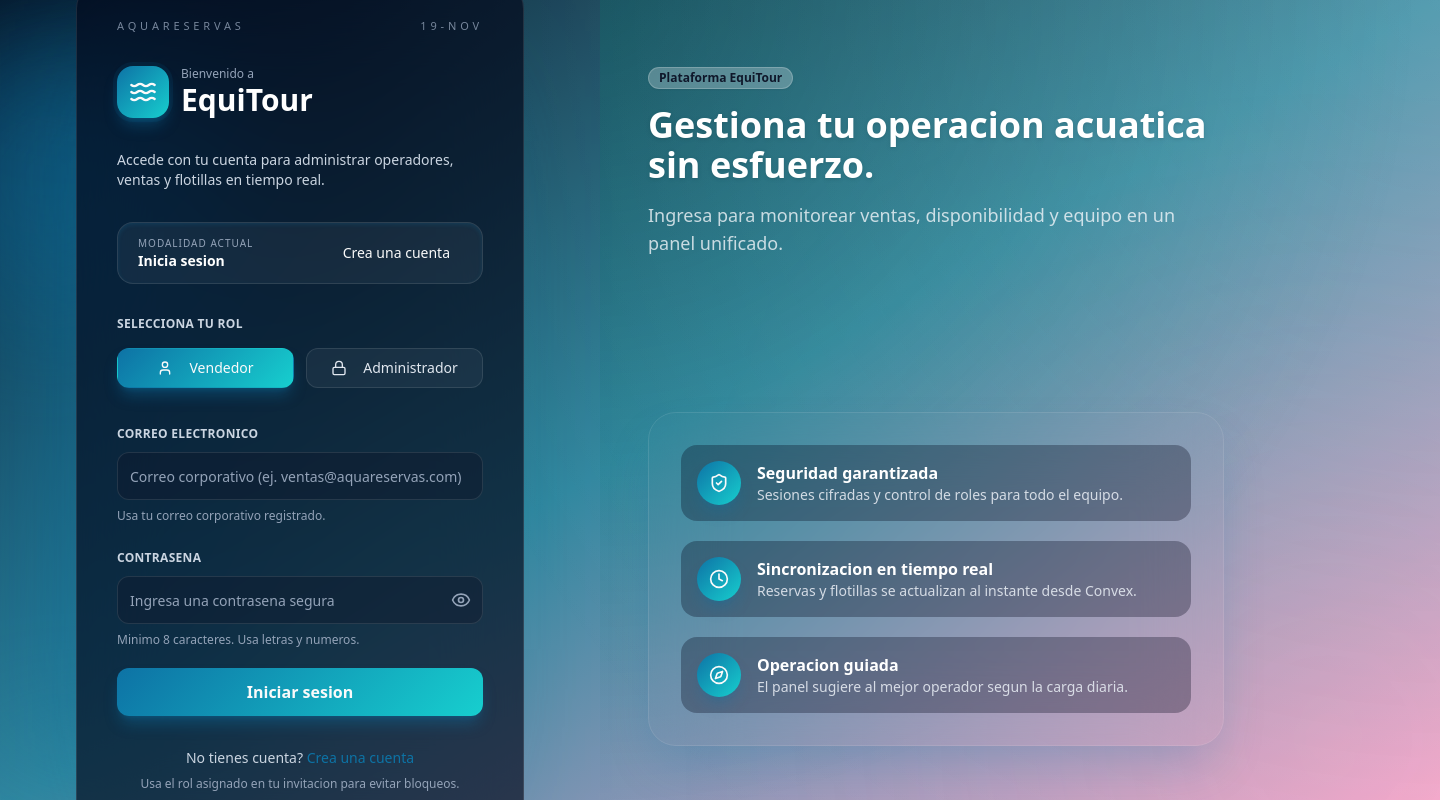
Test: LoginScreen › registers seller accounts and returns to sign-in mode after success
This screenshot has width=1440, height=800.
Click the button "Crea una cuenta" next to "Modalidad actual" at [396, 253], box [331,235,462,271]
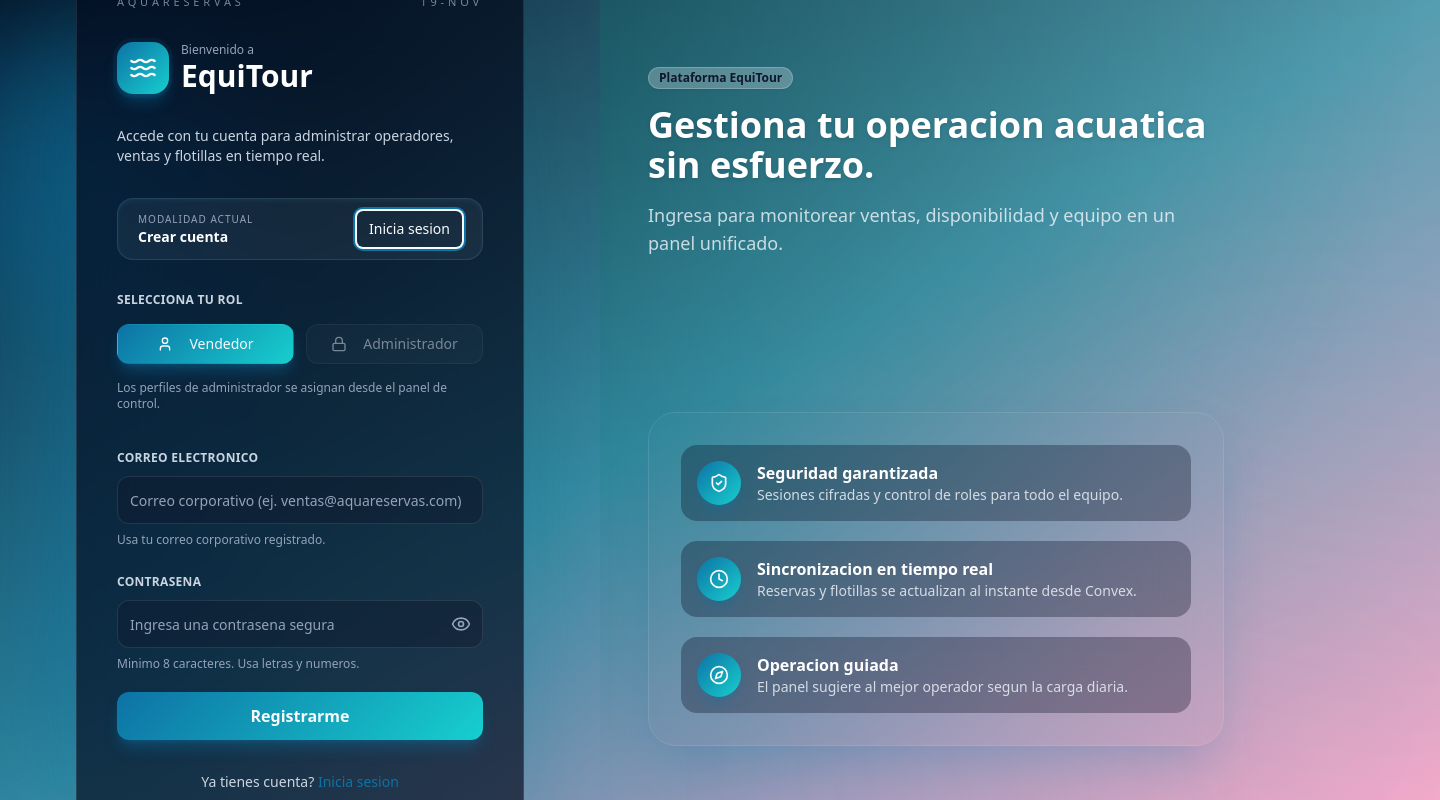
Result: the button "Administrador" is disabled at [306,324,483,364]
Type " newuser@example.com " into the field labelled "Correo electronico" at [300, 500], box [117,476,483,524]
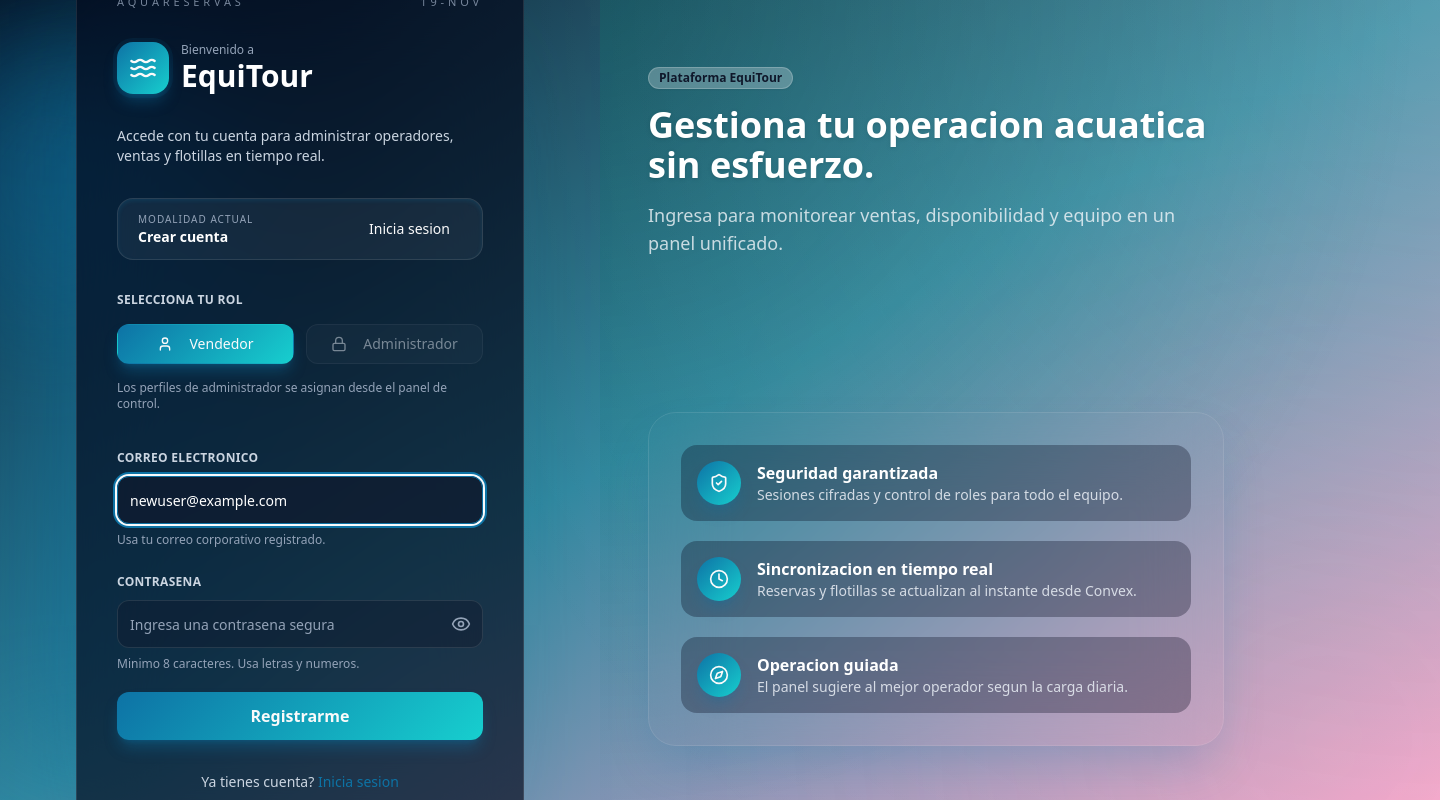
Type " password123 " into the password field labelled "Contrasena" at [300, 624], box [117,600,483,648]
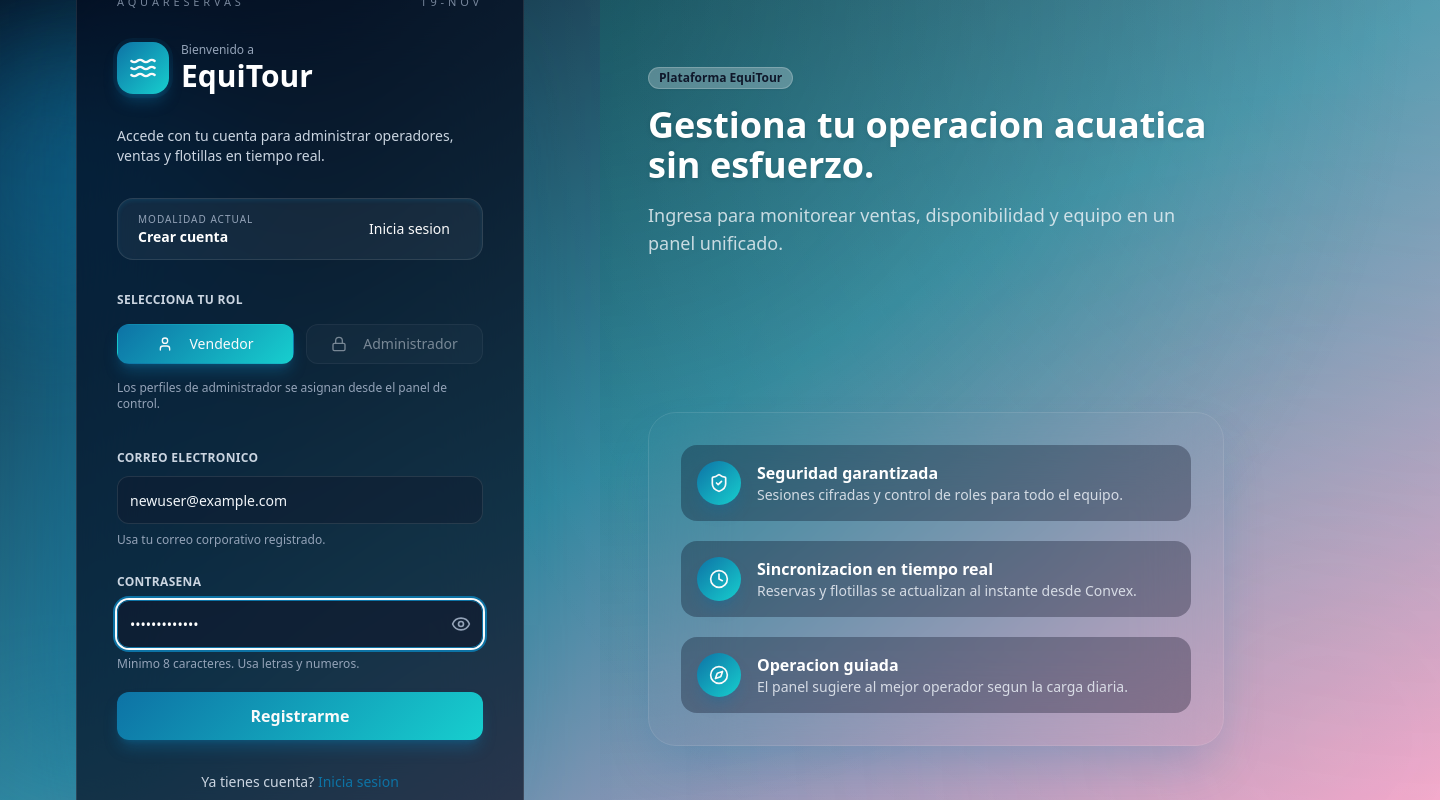
Click the button "Registrarme" at [300, 716], box [117,692,483,740]
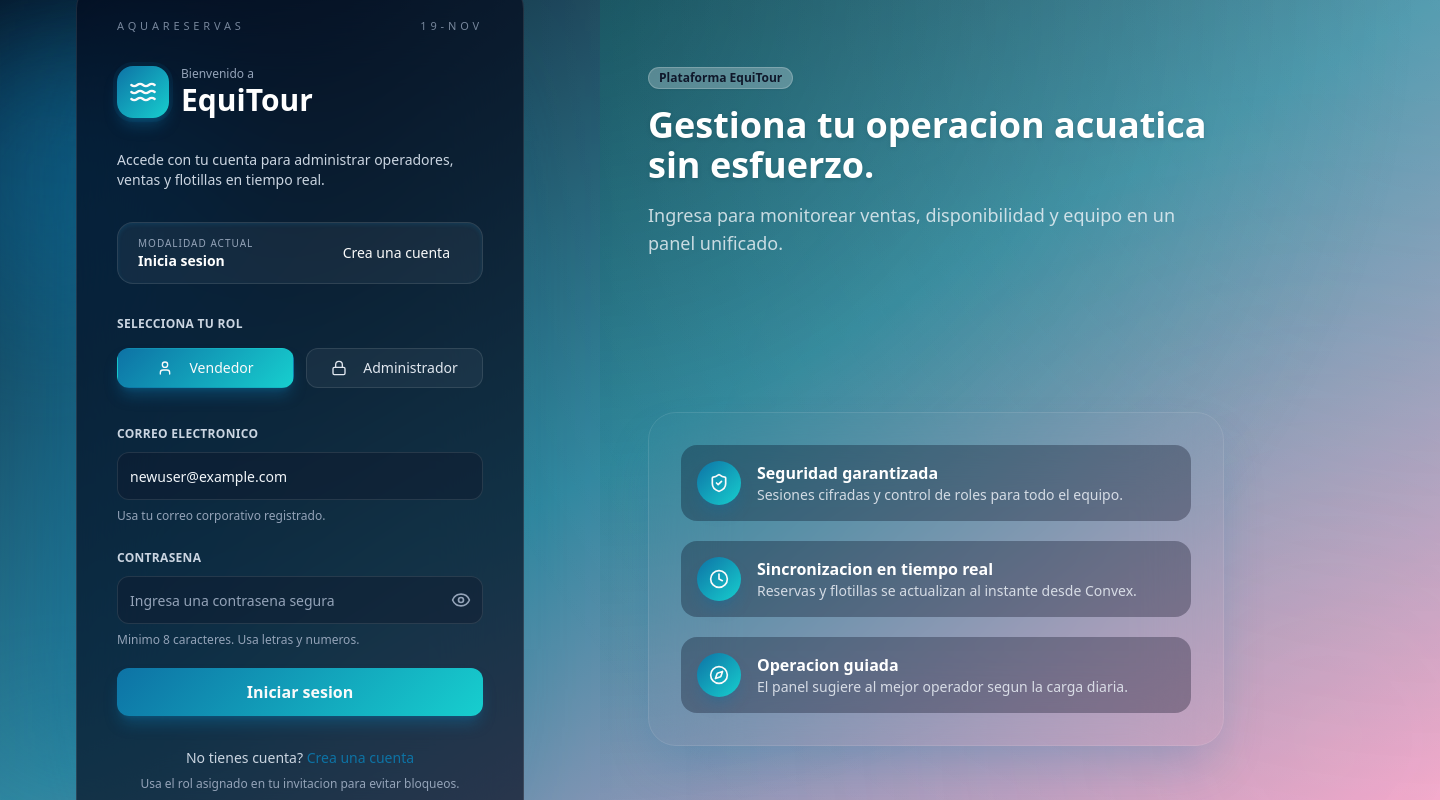
Result: the button "Iniciar sesion" is shown at [117,668,483,716]
Result: the button "Registrarme" is gone
